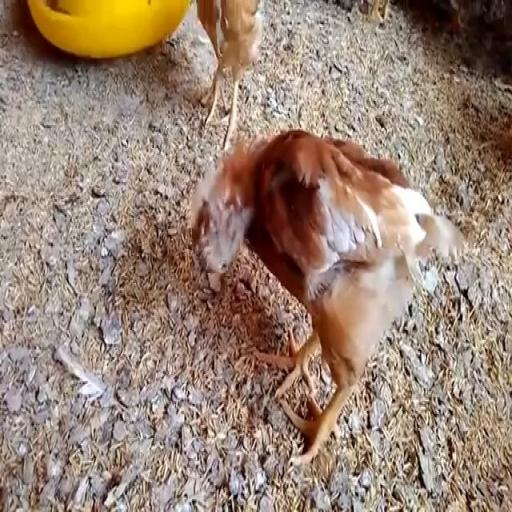disease: (182, 183, 239, 305)
